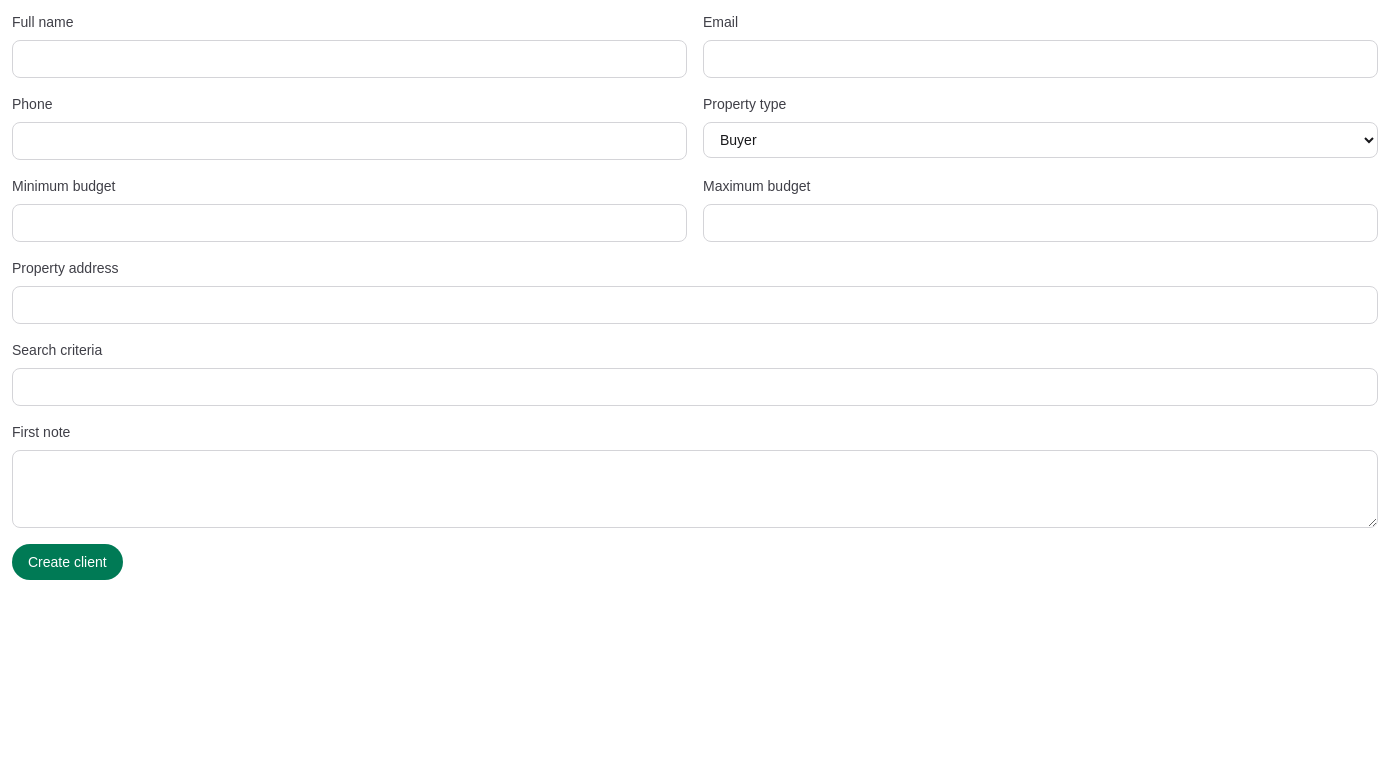
Test: AddClientForm › shows an API error message when submission fails
Step 1. Type "Jordan Lee" into the field labelled "Full name" → (350, 59), box [12,40,687,78]
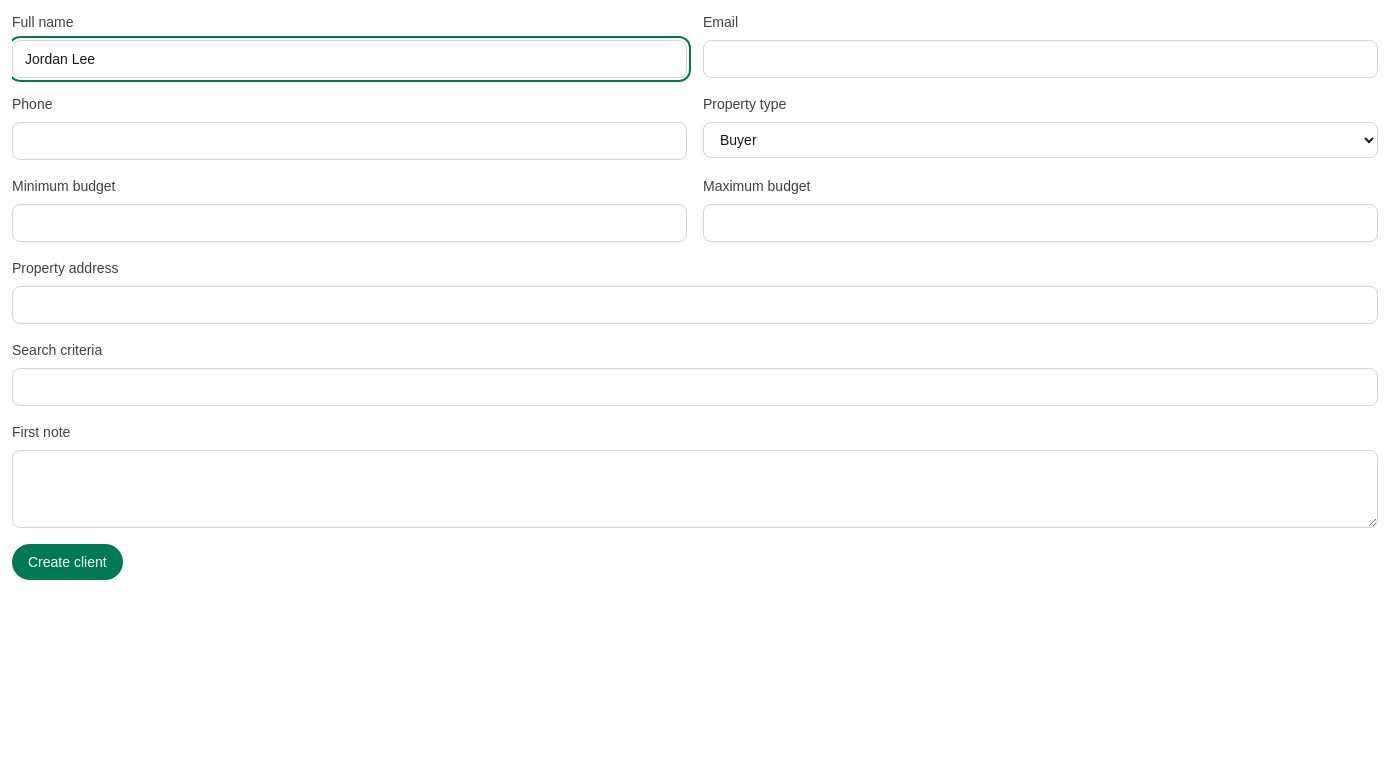
Step 2. Type "jordan.lee@example.com" into the field labelled "Email" → (1040, 59), box [703,40,1378,78]
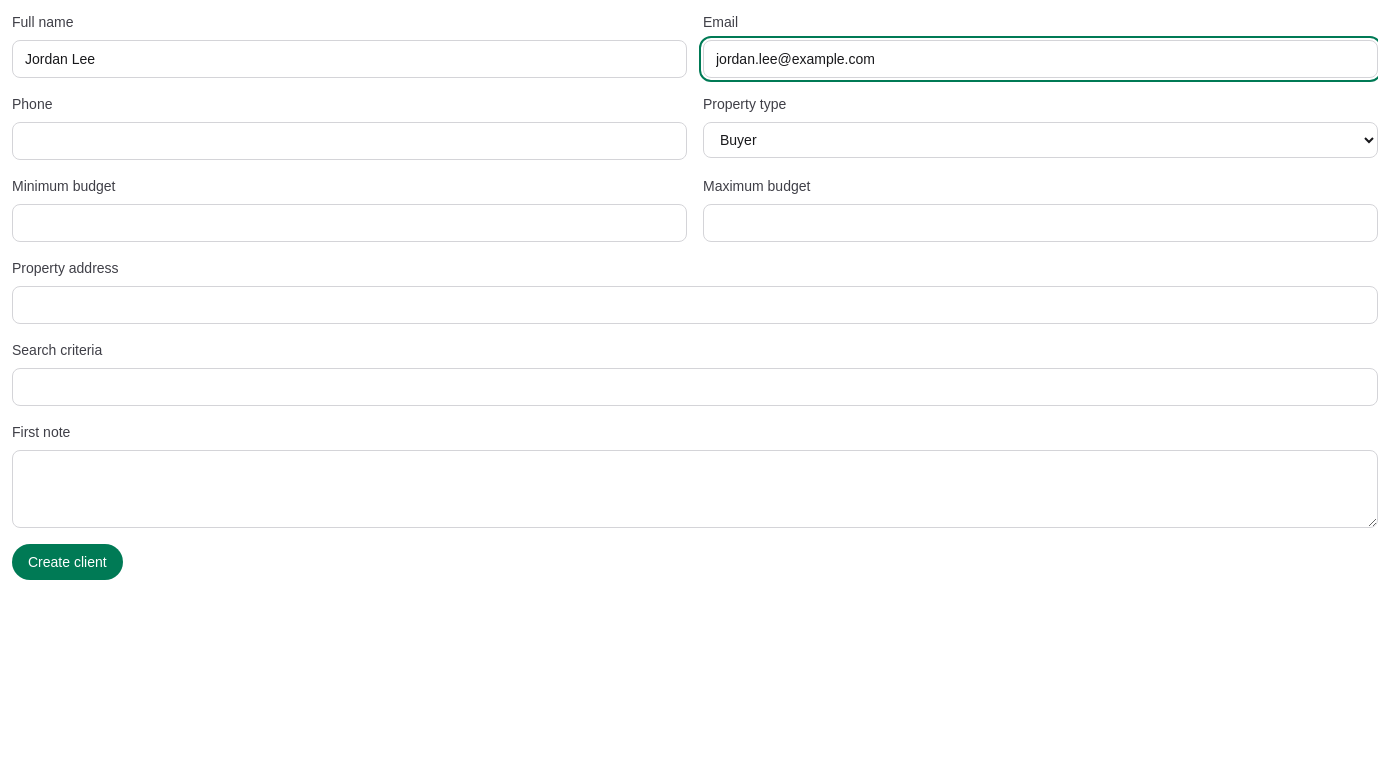
Step 3. Type "619-555-0142" into the field labelled "Phone" → (350, 141), box [12,122,687,160]
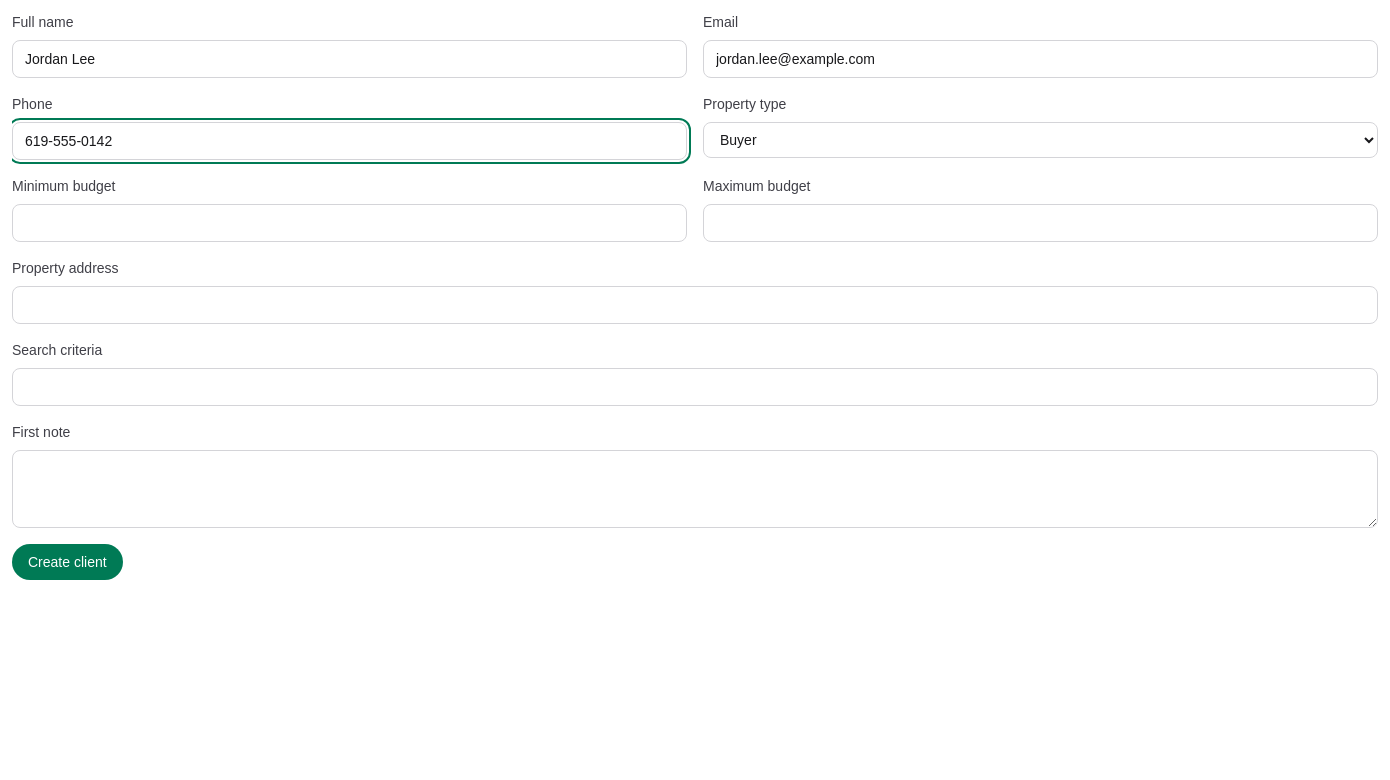
Step 4. Type "450000" into the number field labelled "Minimum budget" → (350, 223), box [12,204,687,242]
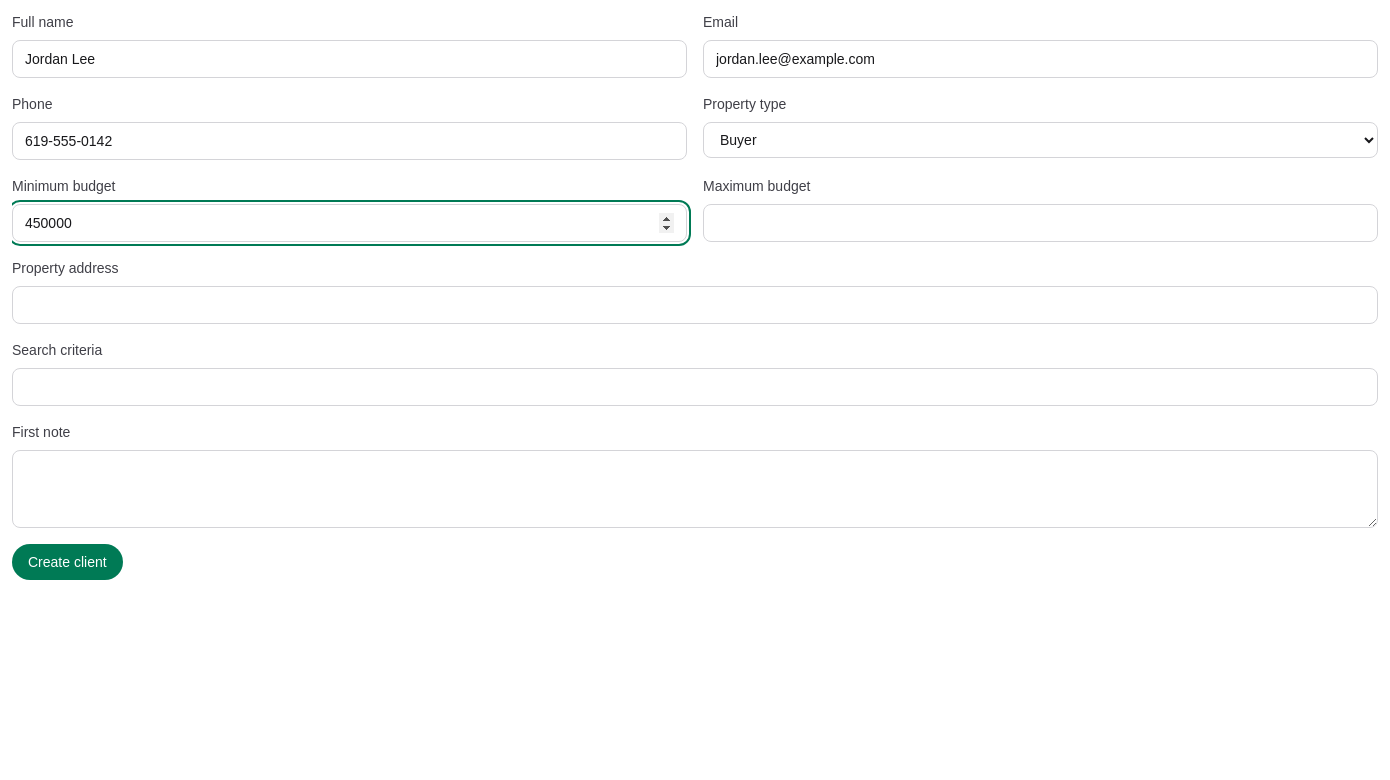
Step 5. Type "650000" into the number field labelled "Maximum budget" → (1040, 223), box [703,204,1378,242]
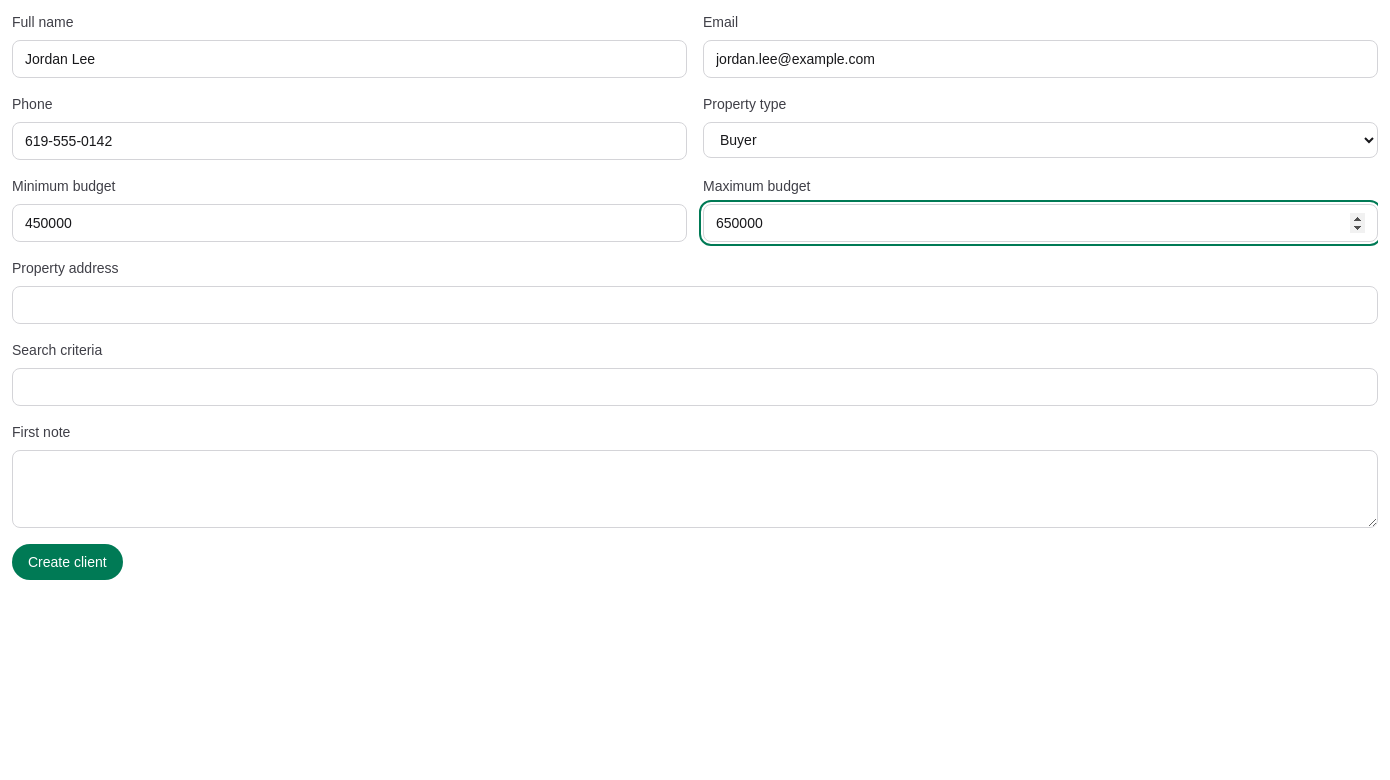
Step 6. Click the button "Create client" → (67, 562), box [12,544,123,580]
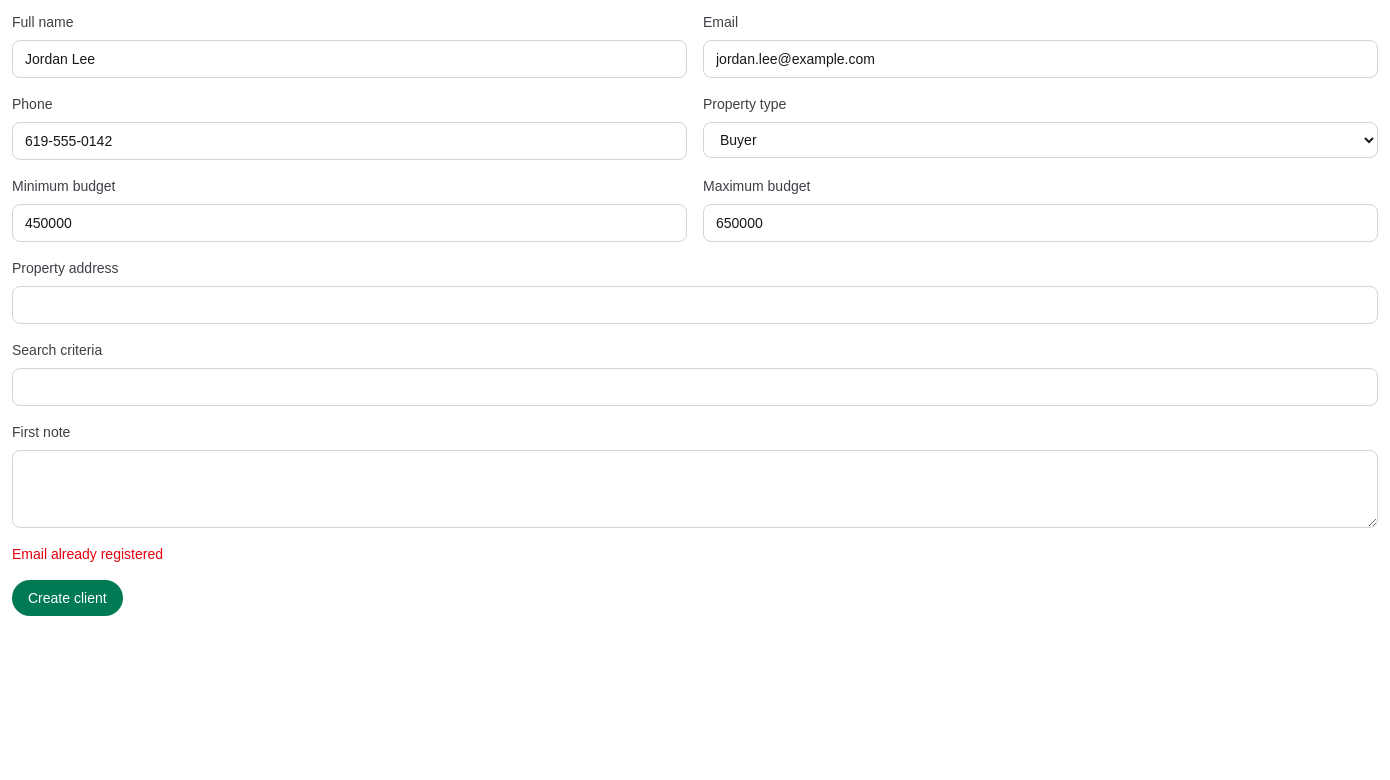
Now the message reads "Email already registered", box [12,546,163,562]
